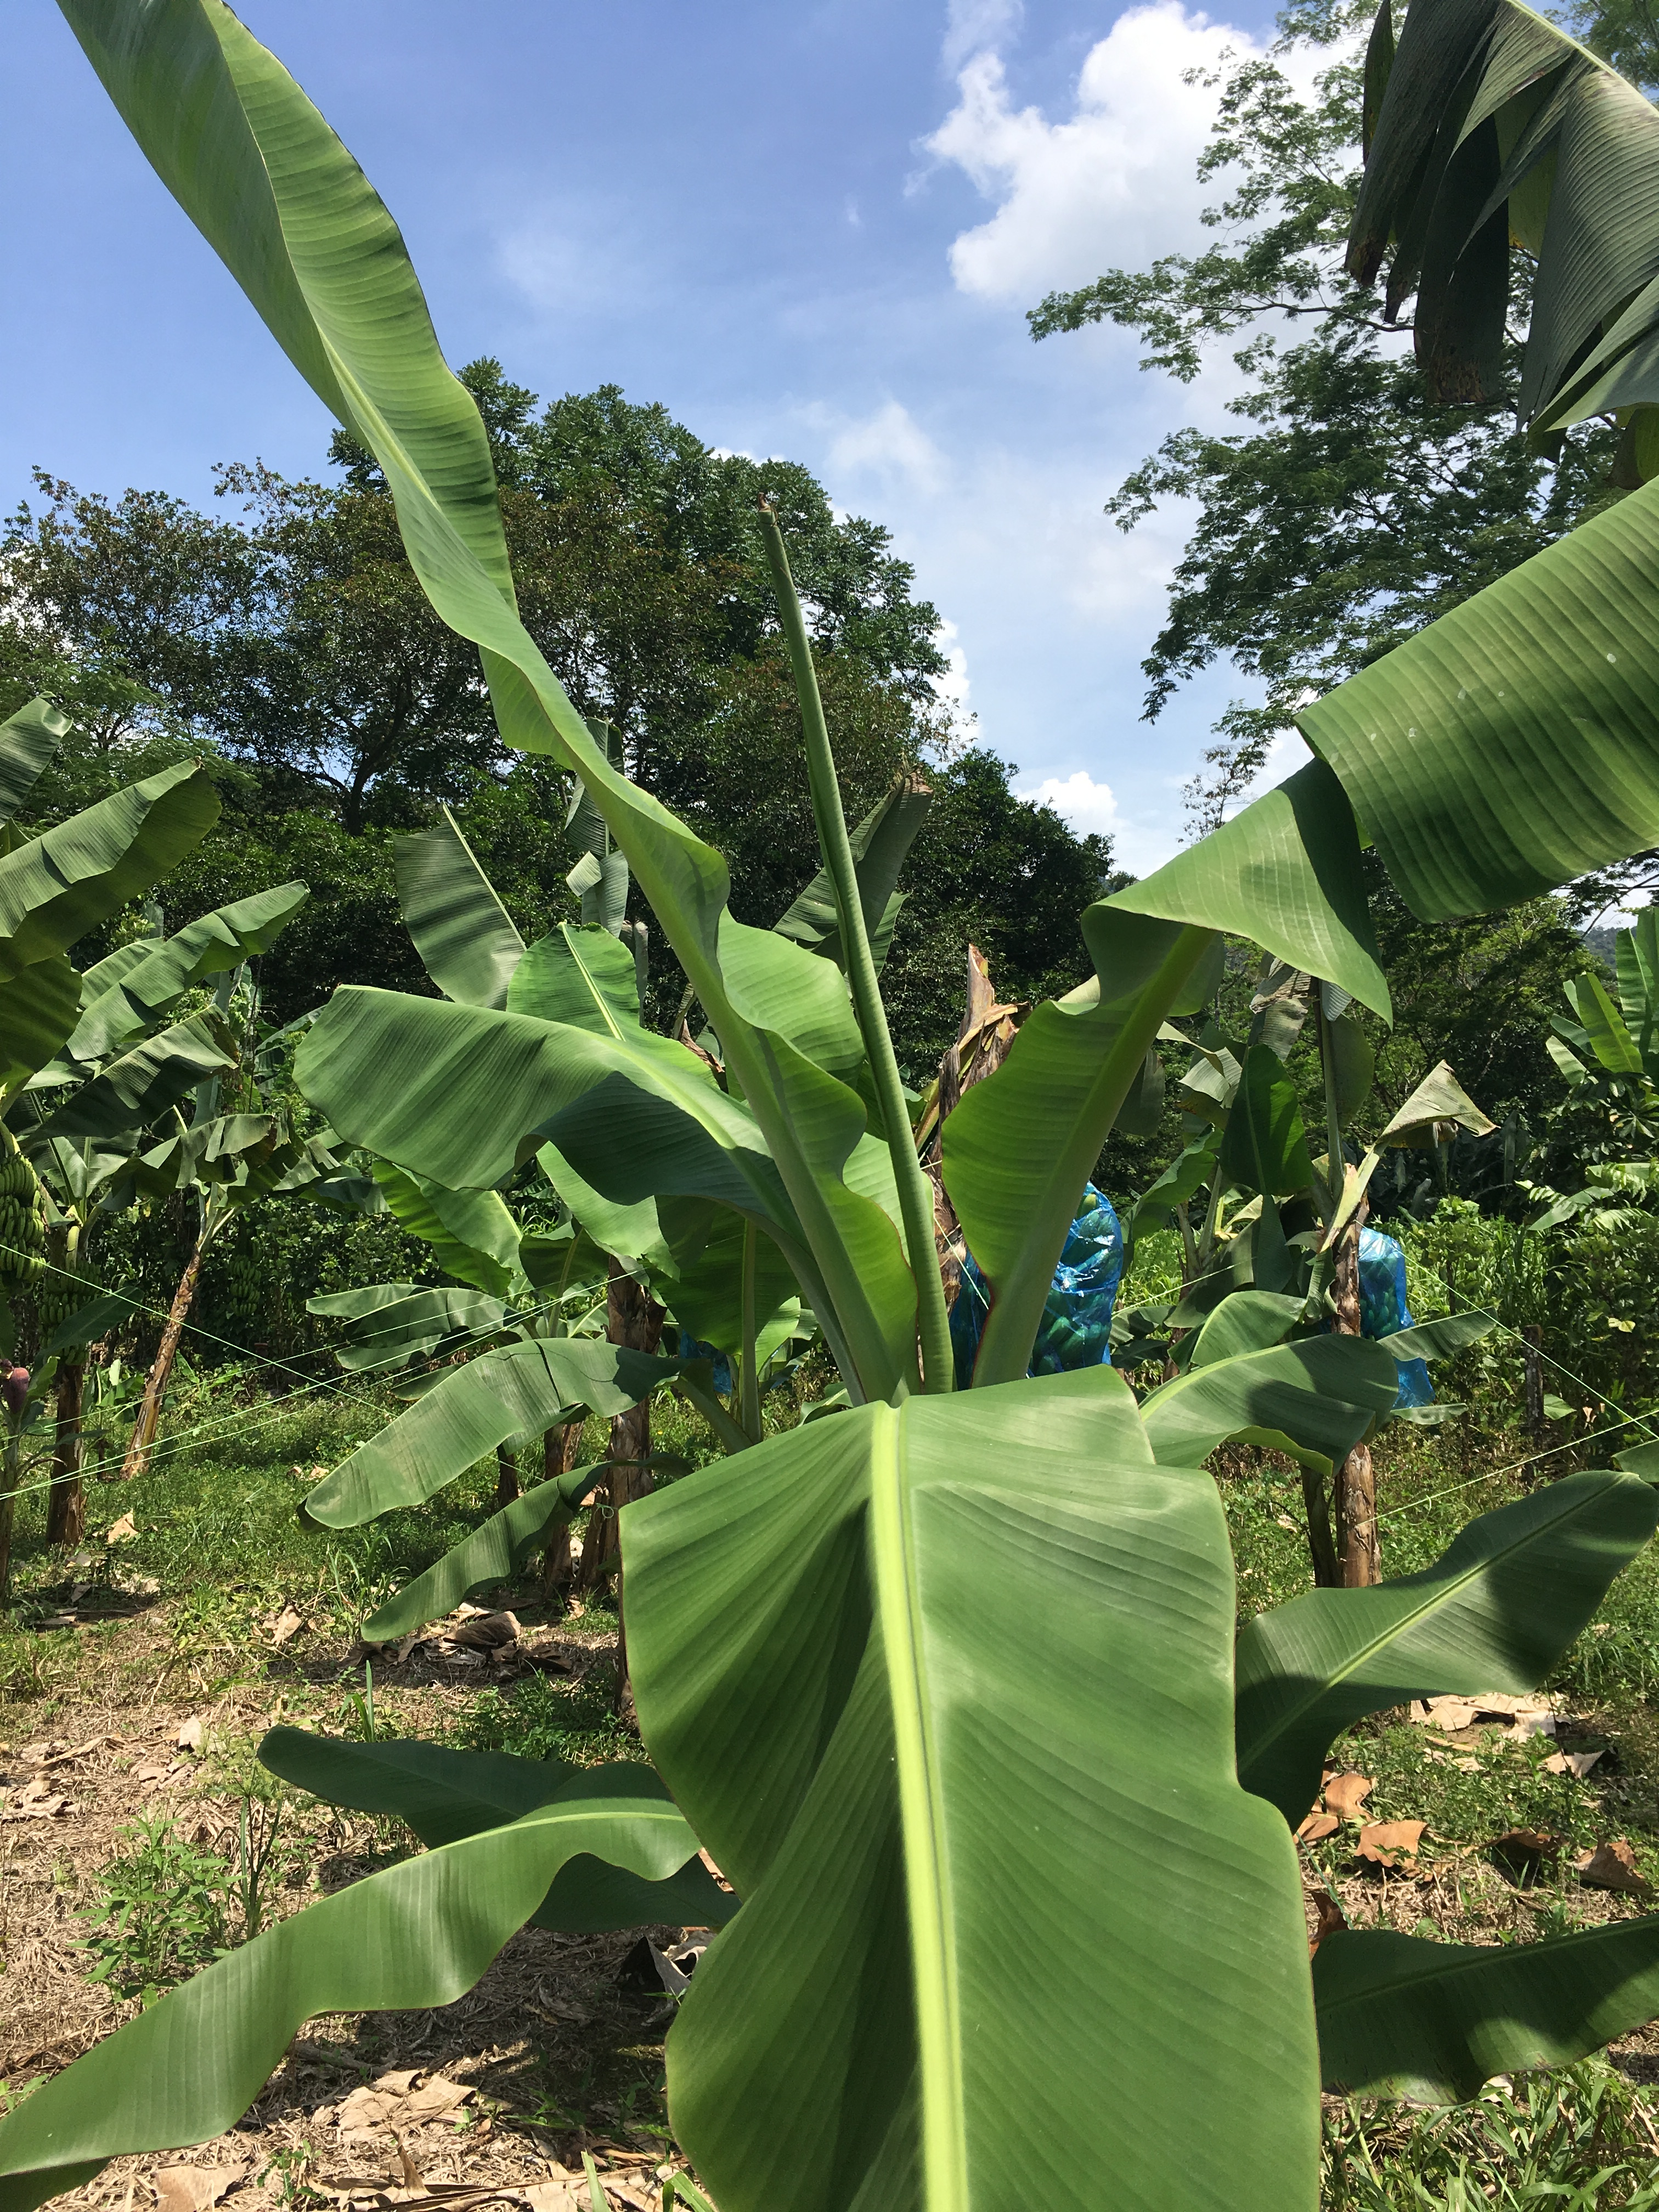candleleafs: (756, 488, 957, 1395)
